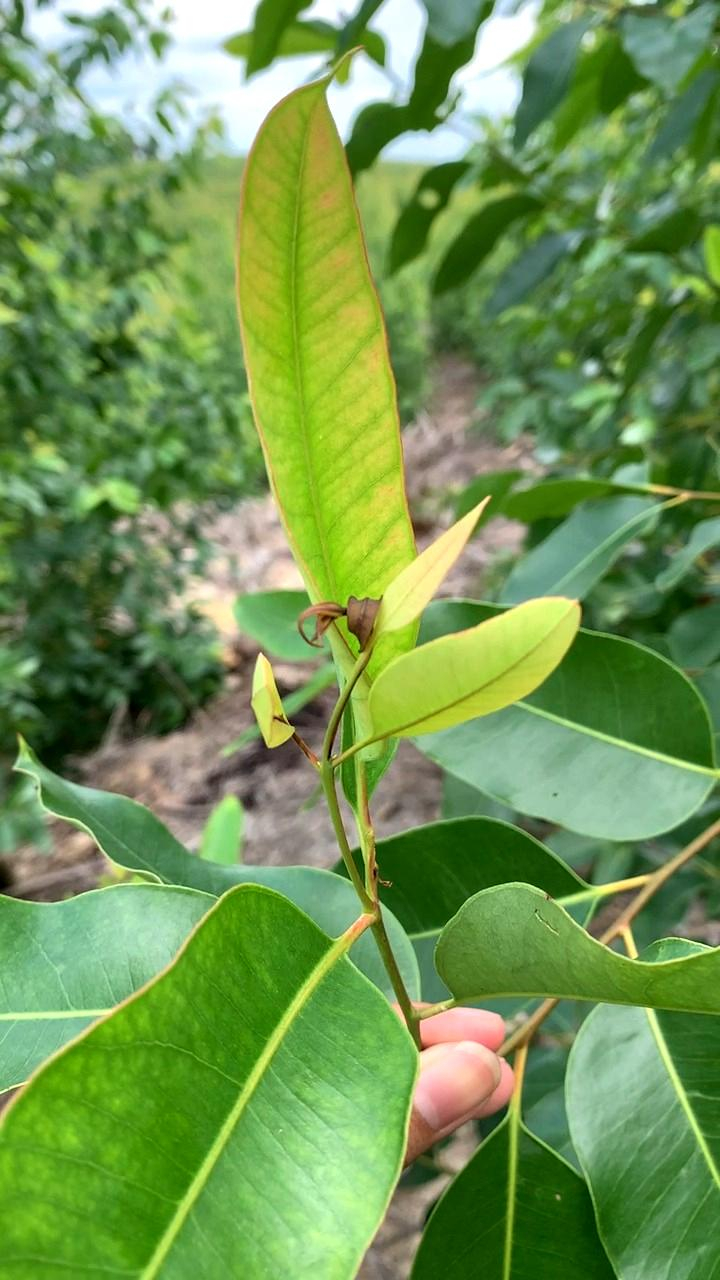Helopeltis-Withered Sprout: (287, 578, 398, 671)
